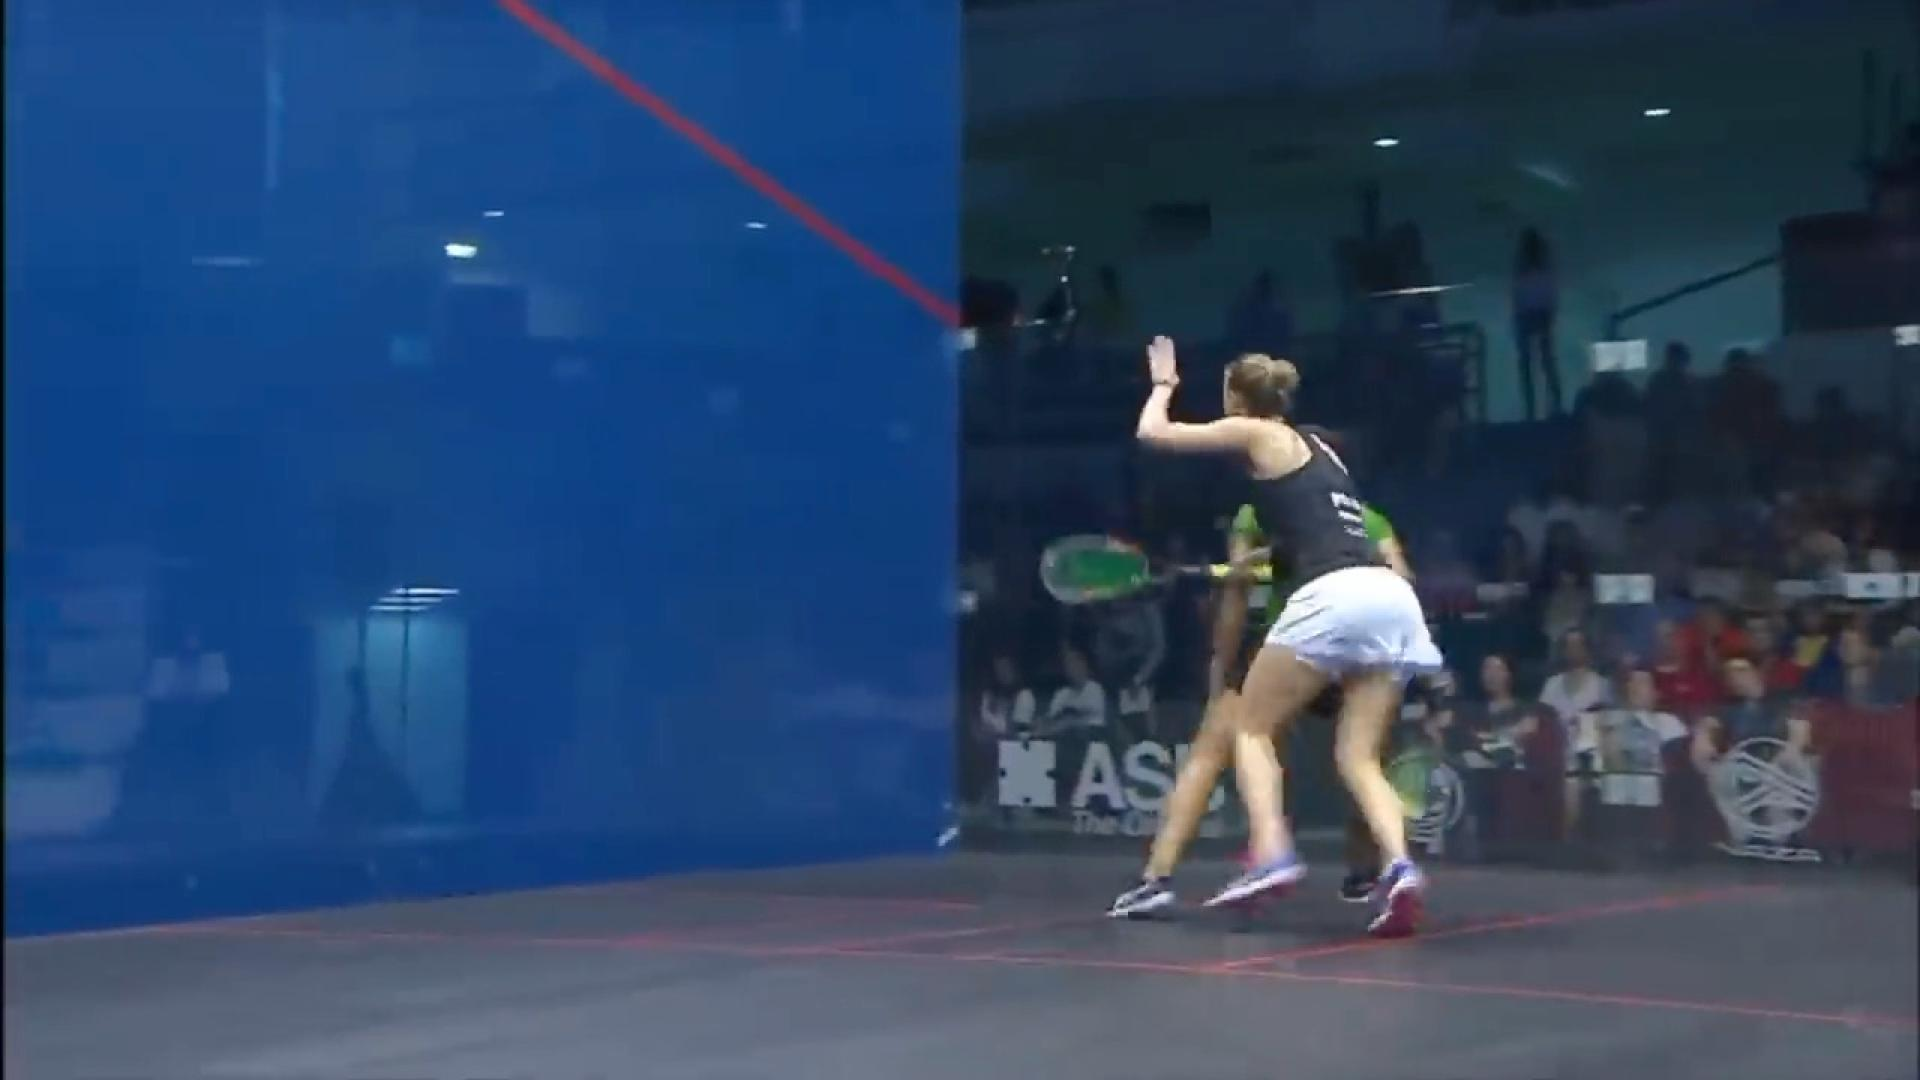Squash-Ball: (924, 812, 975, 868)
